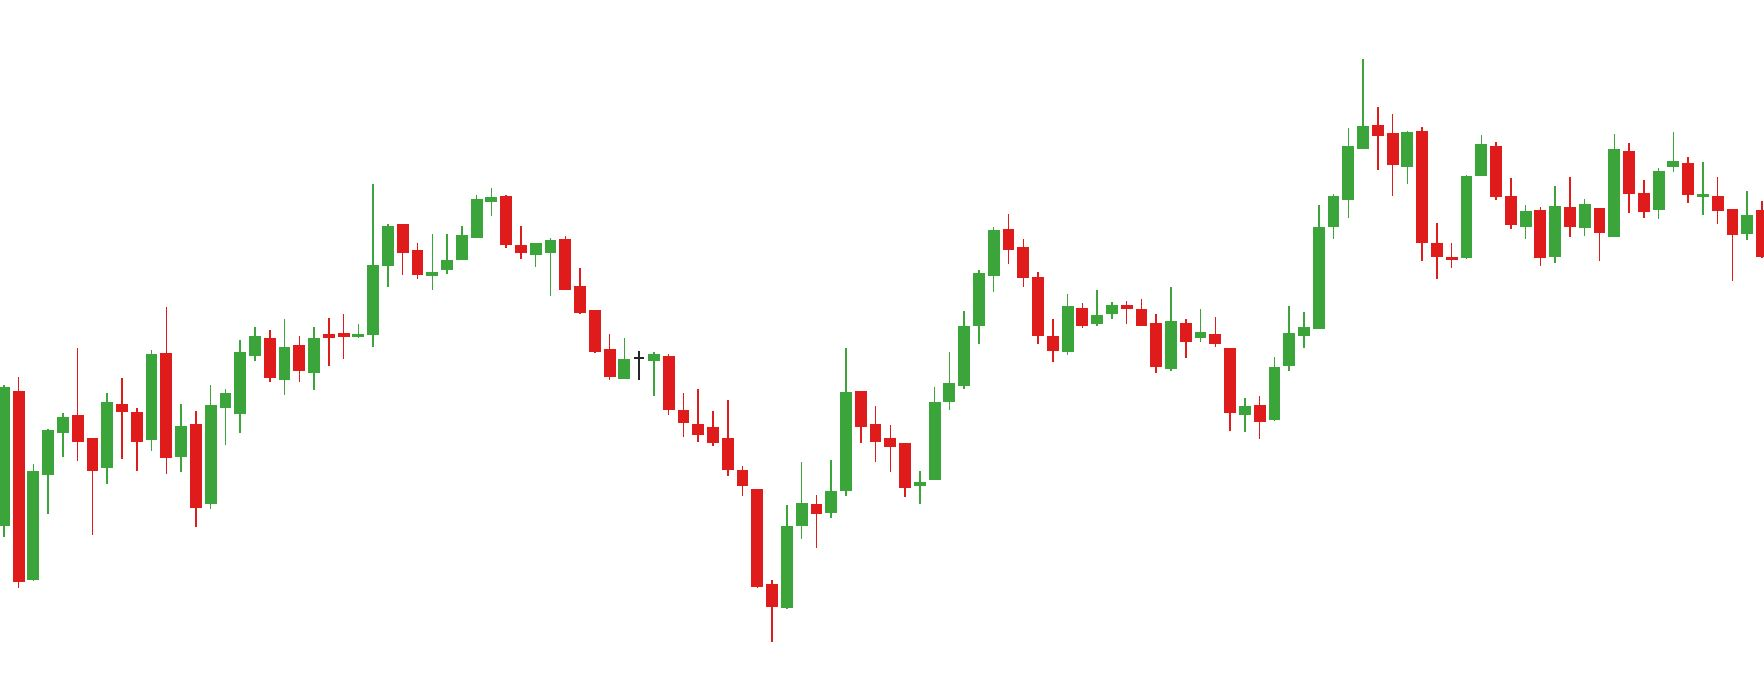buy: (1147, 306, 1281, 436)
